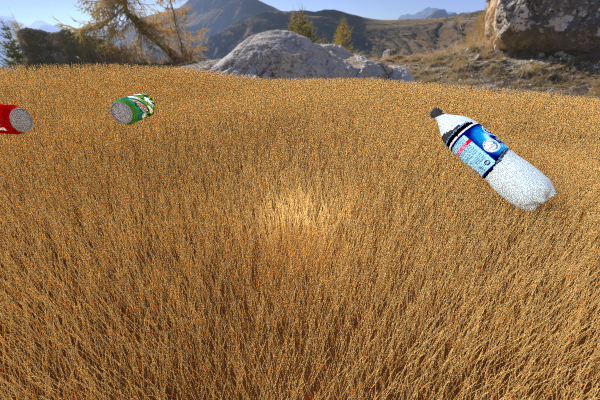Plastic Bottle: (429, 107, 556, 211), (110, 93, 155, 124), (0, 101, 33, 134)
